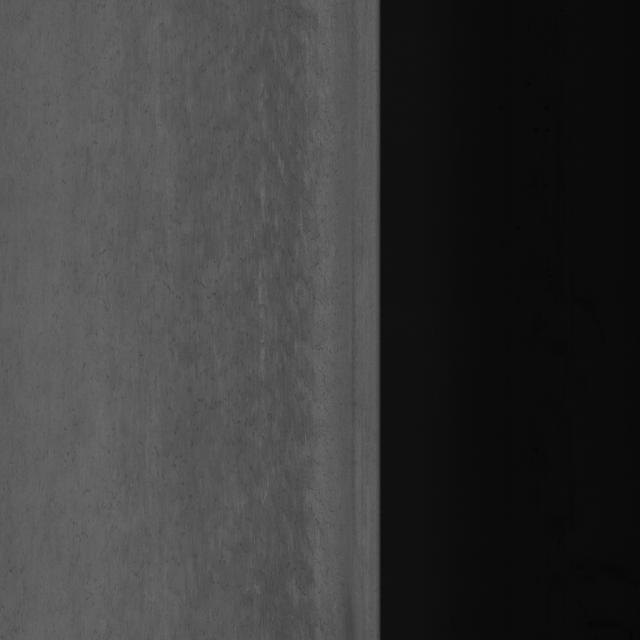inclusion: (178, 386, 284, 565), (164, 107, 251, 306), (280, 184, 342, 383)
